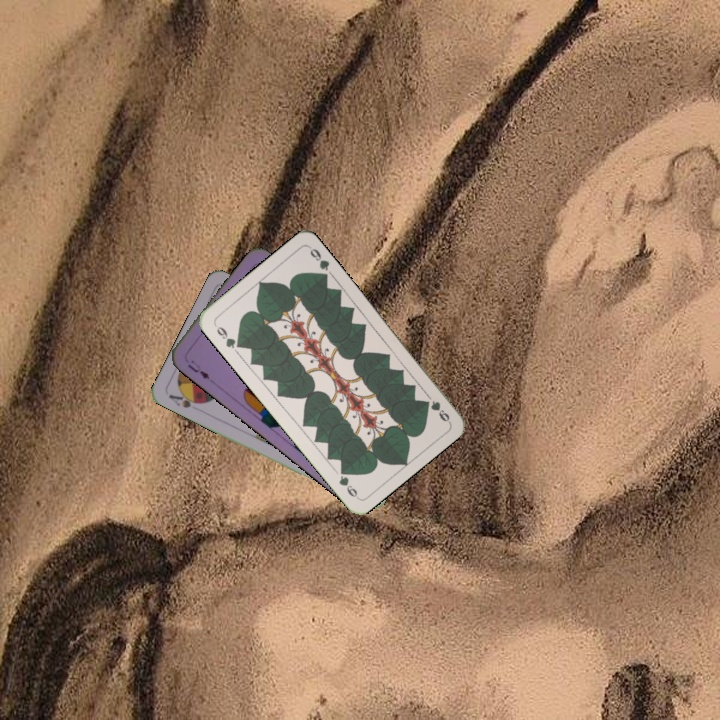EU: (184, 356, 212, 382)
G9: (210, 320, 244, 351), (421, 396, 452, 425)
SA: (164, 388, 205, 411)
